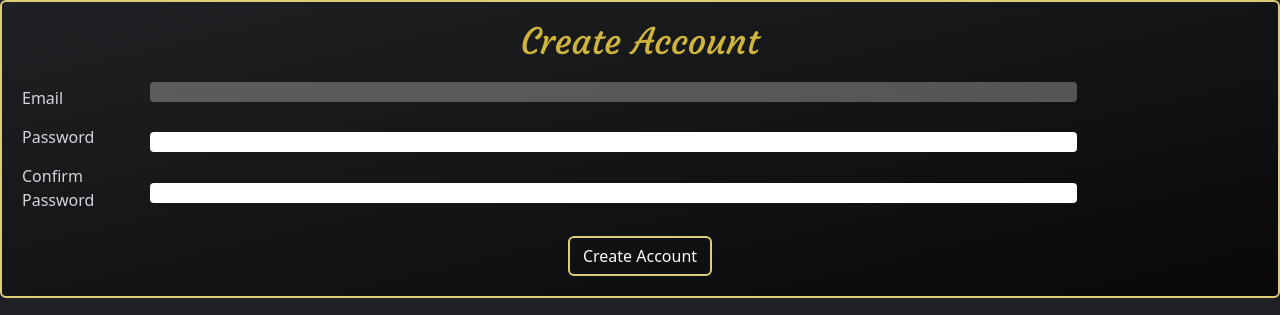
Test case: Create Account Form › should render correct error messages when passwords do not match
Type "abcd" into the field labelled "Password". click: (614, 142)
box: [150, 132, 1077, 152]
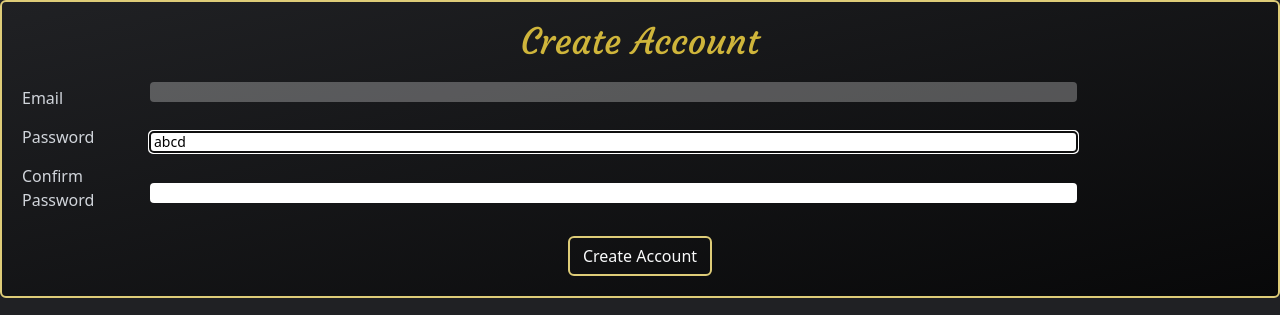
Type "abcdefg" into the field labelled "Confirm Password". click: (614, 193)
box: [150, 183, 1077, 203]
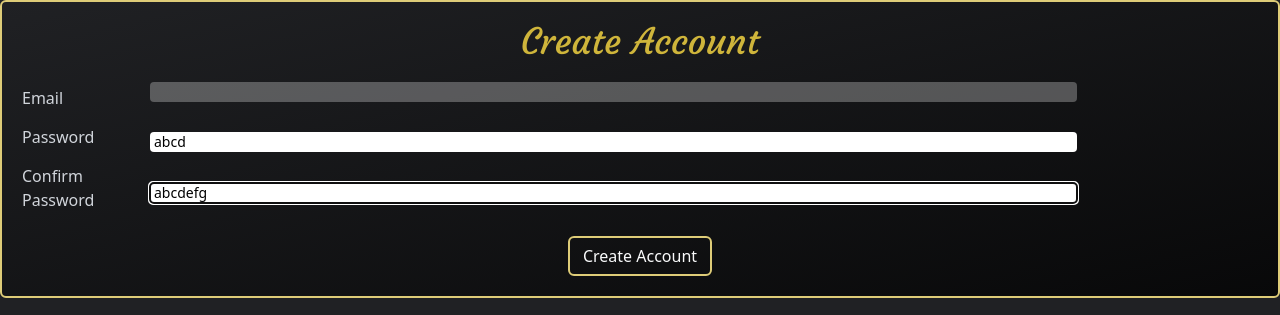
Click the button "Create Account". click: (640, 256)
box: [568, 236, 712, 276]
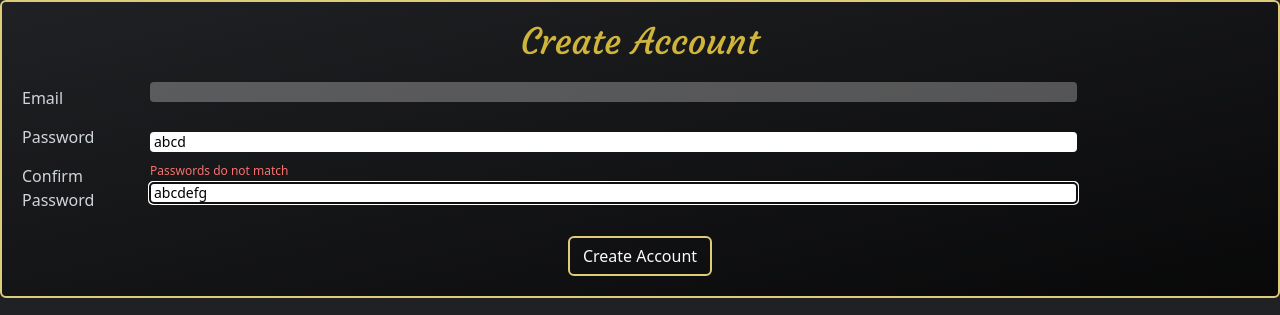
Now the text "Passwords do not match" is shown, box [150, 162, 288, 179]
